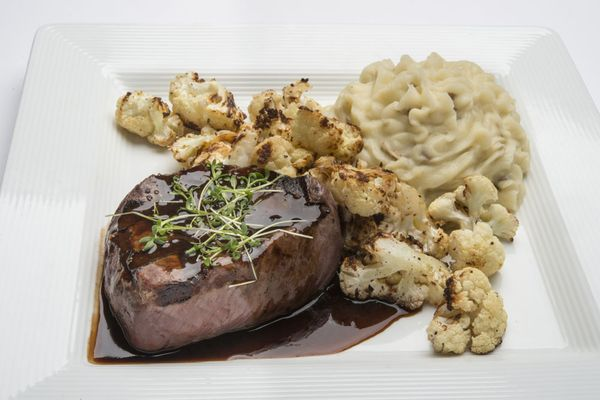curry: (0, 19, 566, 388)
